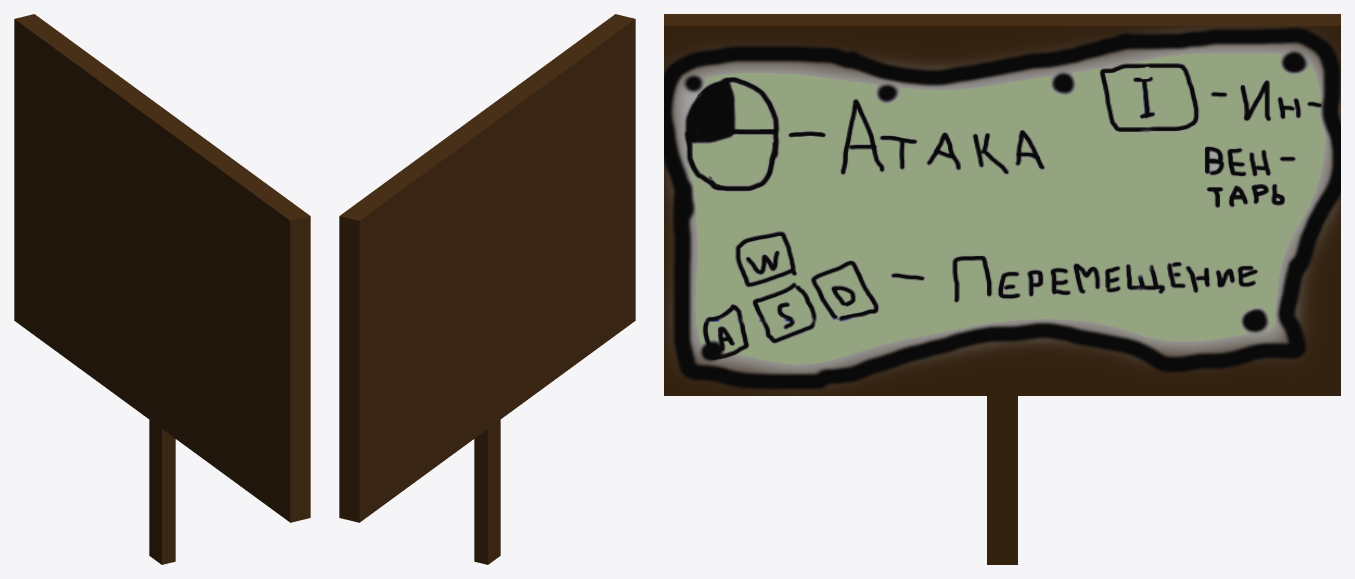
File: sign.fbx
3 views of the same model, side by side, from view 1: azimuth 30°, elevation 25°; view 2: azimuth 150°, elevation 25°; view 3: azimuth 270°, elevation 25° (orthographic). The views are drawn at different scales.
Visible parts, largest first — view 1: Cube; view 2: Cube; view 3: Cube.
Part boxes in pixels (bbox=[...]): Cube: bbox=[14, 14, 310, 564]; Cube: bbox=[339, 14, 635, 564]; Cube: bbox=[664, 14, 1340, 564].
Size of the model in its own units: 0.1983 by 4.15 by 4.71.
